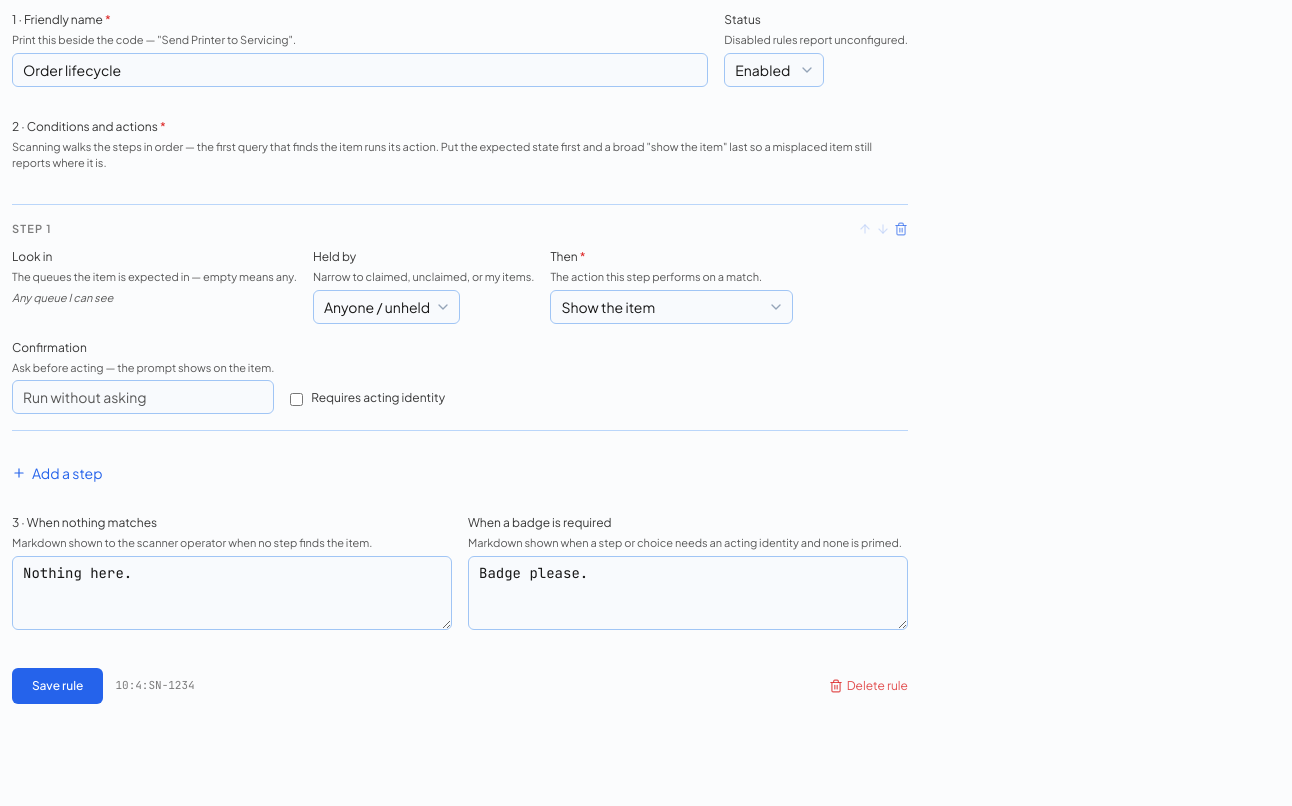
Scenario: ScanRuleEditor › offers the auto-select knob only for single-choice present steps
Expected: the field labelled "Auto-select the single choice" is not shown
Select "Show reality + choices" in the dropdown labelled "Then * The action this step performs on a match." at coordinates (672, 306), box [550, 290, 793, 324]
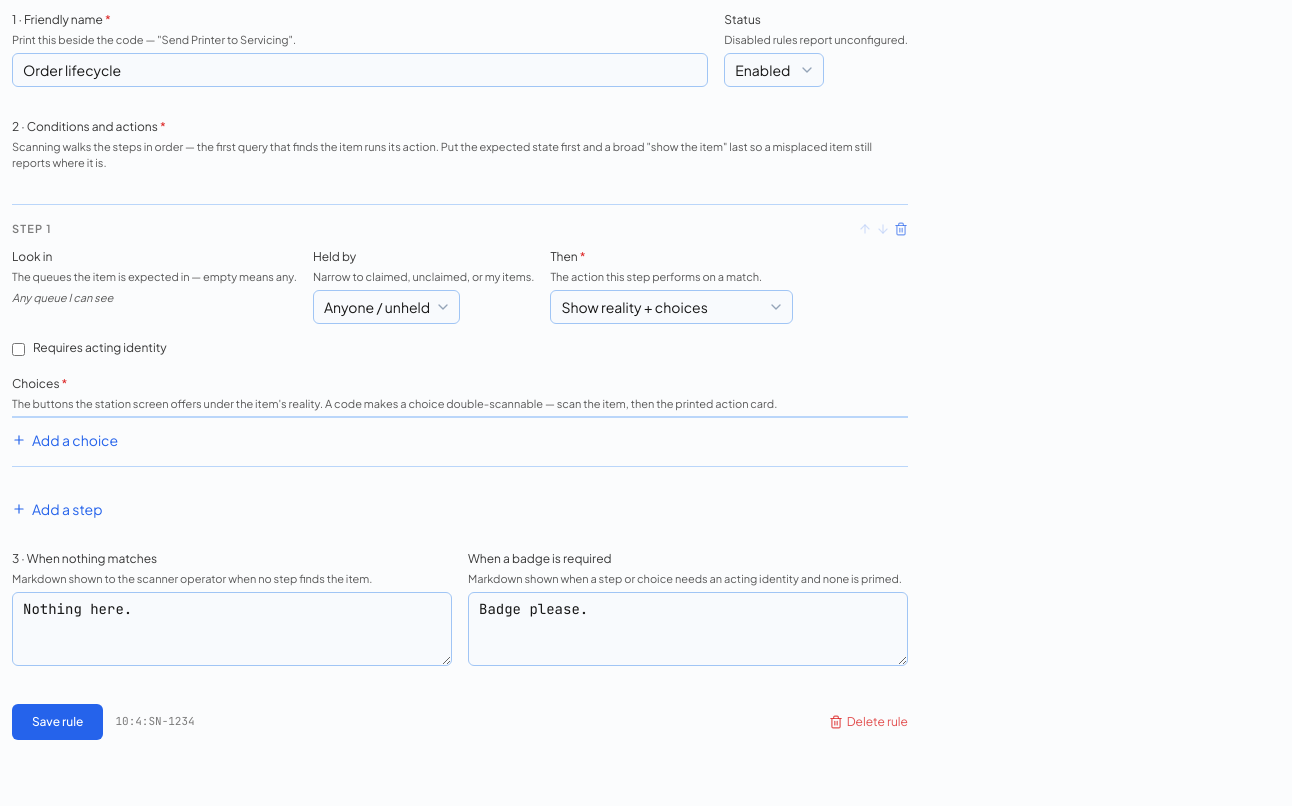
Expected: the field labelled "Auto-select the single choice" is not shown
Click the button "Add a choice" at coordinates (65, 436), box [12, 422, 118, 450]
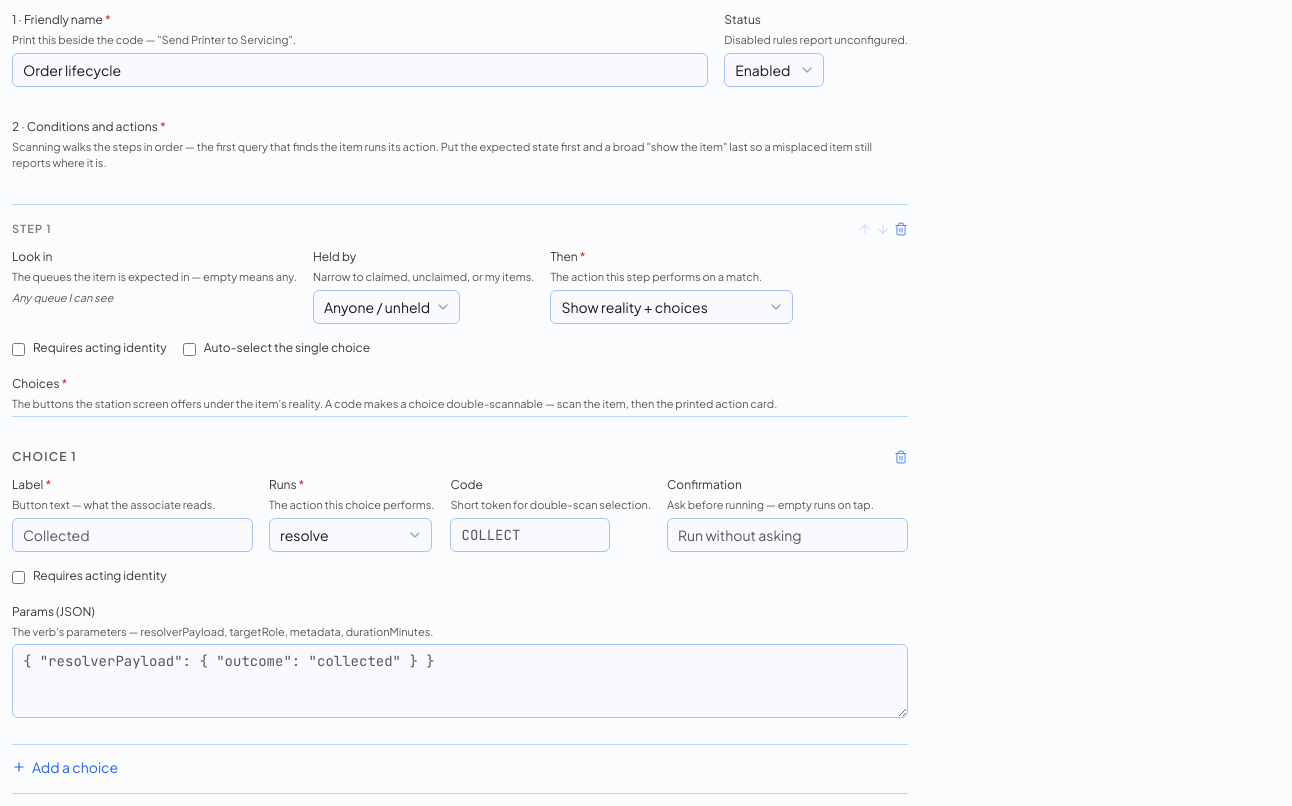
Expected: the checkbox labelled "Auto-select the single choice" is shown, [183, 342, 196, 356]
Click the button "Add a choice" at coordinates (65, 763), box [12, 749, 118, 777]
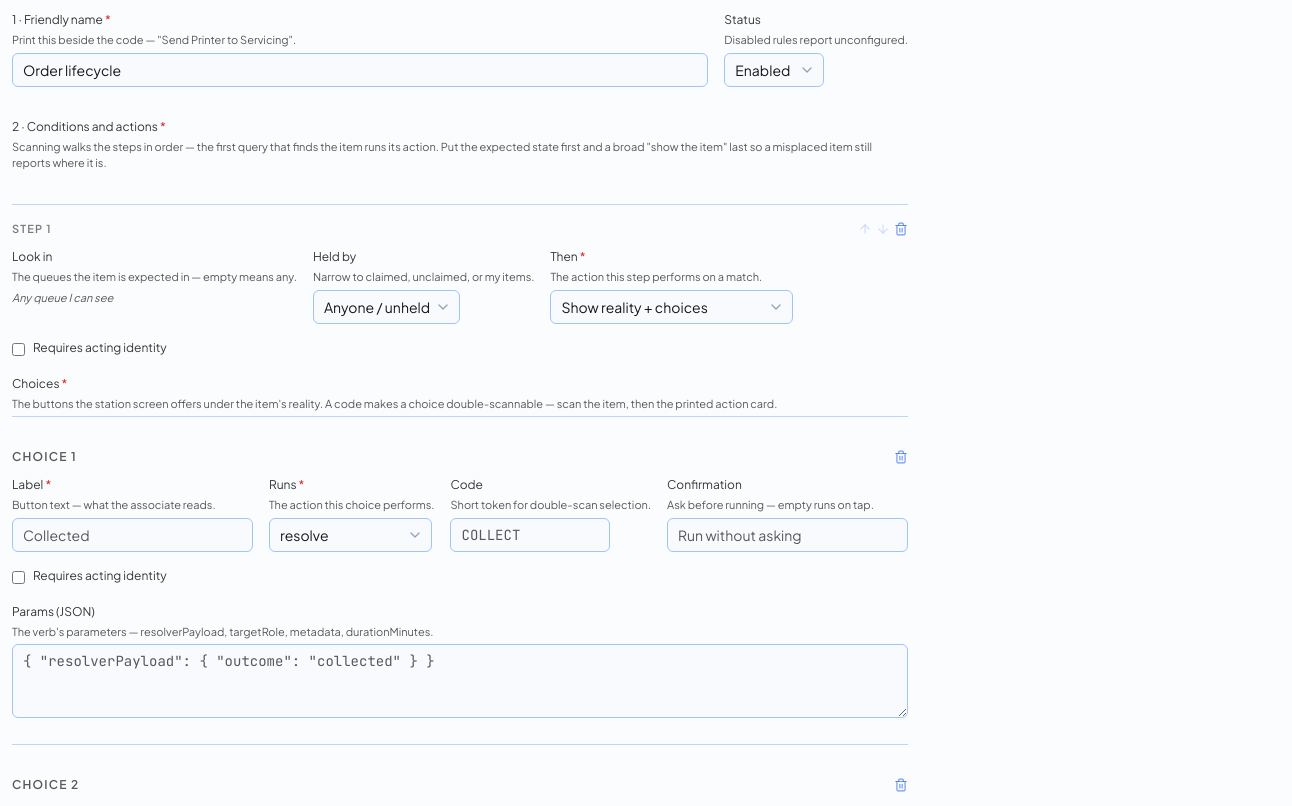
Expected: the text labelled "Auto-select the single choice" is gone
